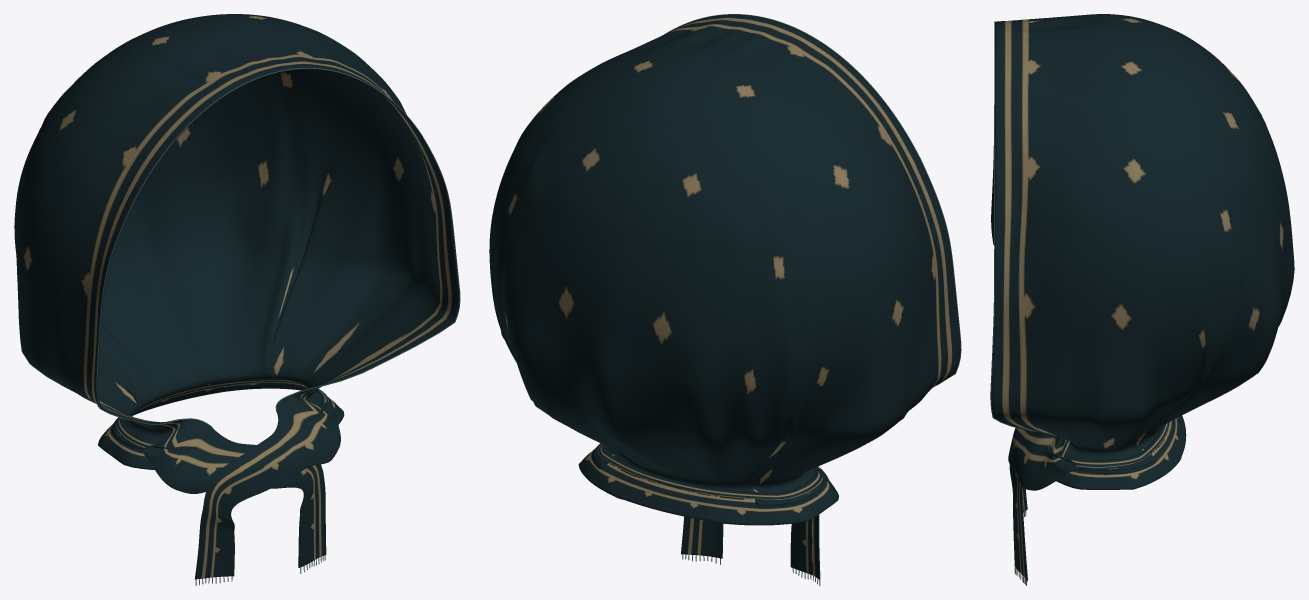
The model's file is Masculine-tank-pashmina241-headgear.glb.
The picture shows the model from 3 angles, left to right: view 1: azimuth 30°, elevation 25°; view 2: azimuth 150°, elevation 25°; view 3: azimuth 270°, elevation 25°; orthographic projection. The views are drawn at different scales.
Parts seen in each view (by area): view 1: 226 headgear / Headwear / continuous woven pashmina239, 226 headgear / Headwear / face edge239; view 2: 226 headgear / Headwear / continuous woven pashmina239, 226 headgear / Headwear / face edge239; view 3: 226 headgear / Headwear / continuous woven pashmina239, 226 headgear / Headwear / face edge239.
Part boxes in pixels (box(x1,y1,x2,y2)): 226 headgear / Headwear / continuous woven pashmina239: box(14, 14, 459, 579); 226 headgear / Headwear / face edge239: box(96, 68, 460, 427); 226 headgear / Headwear / continuous woven pashmina239: box(489, 14, 960, 579); 226 headgear / Headwear / face edge239: box(664, 14, 961, 387); 226 headgear / Headwear / continuous woven pashmina239: box(991, 14, 1294, 581); 226 headgear / Headwear / face edge239: box(990, 21, 1038, 431).
Size of the model in its own units: 1.03 by 1.35 by 0.7127.
Materials: 3 (1 with a texture image).
